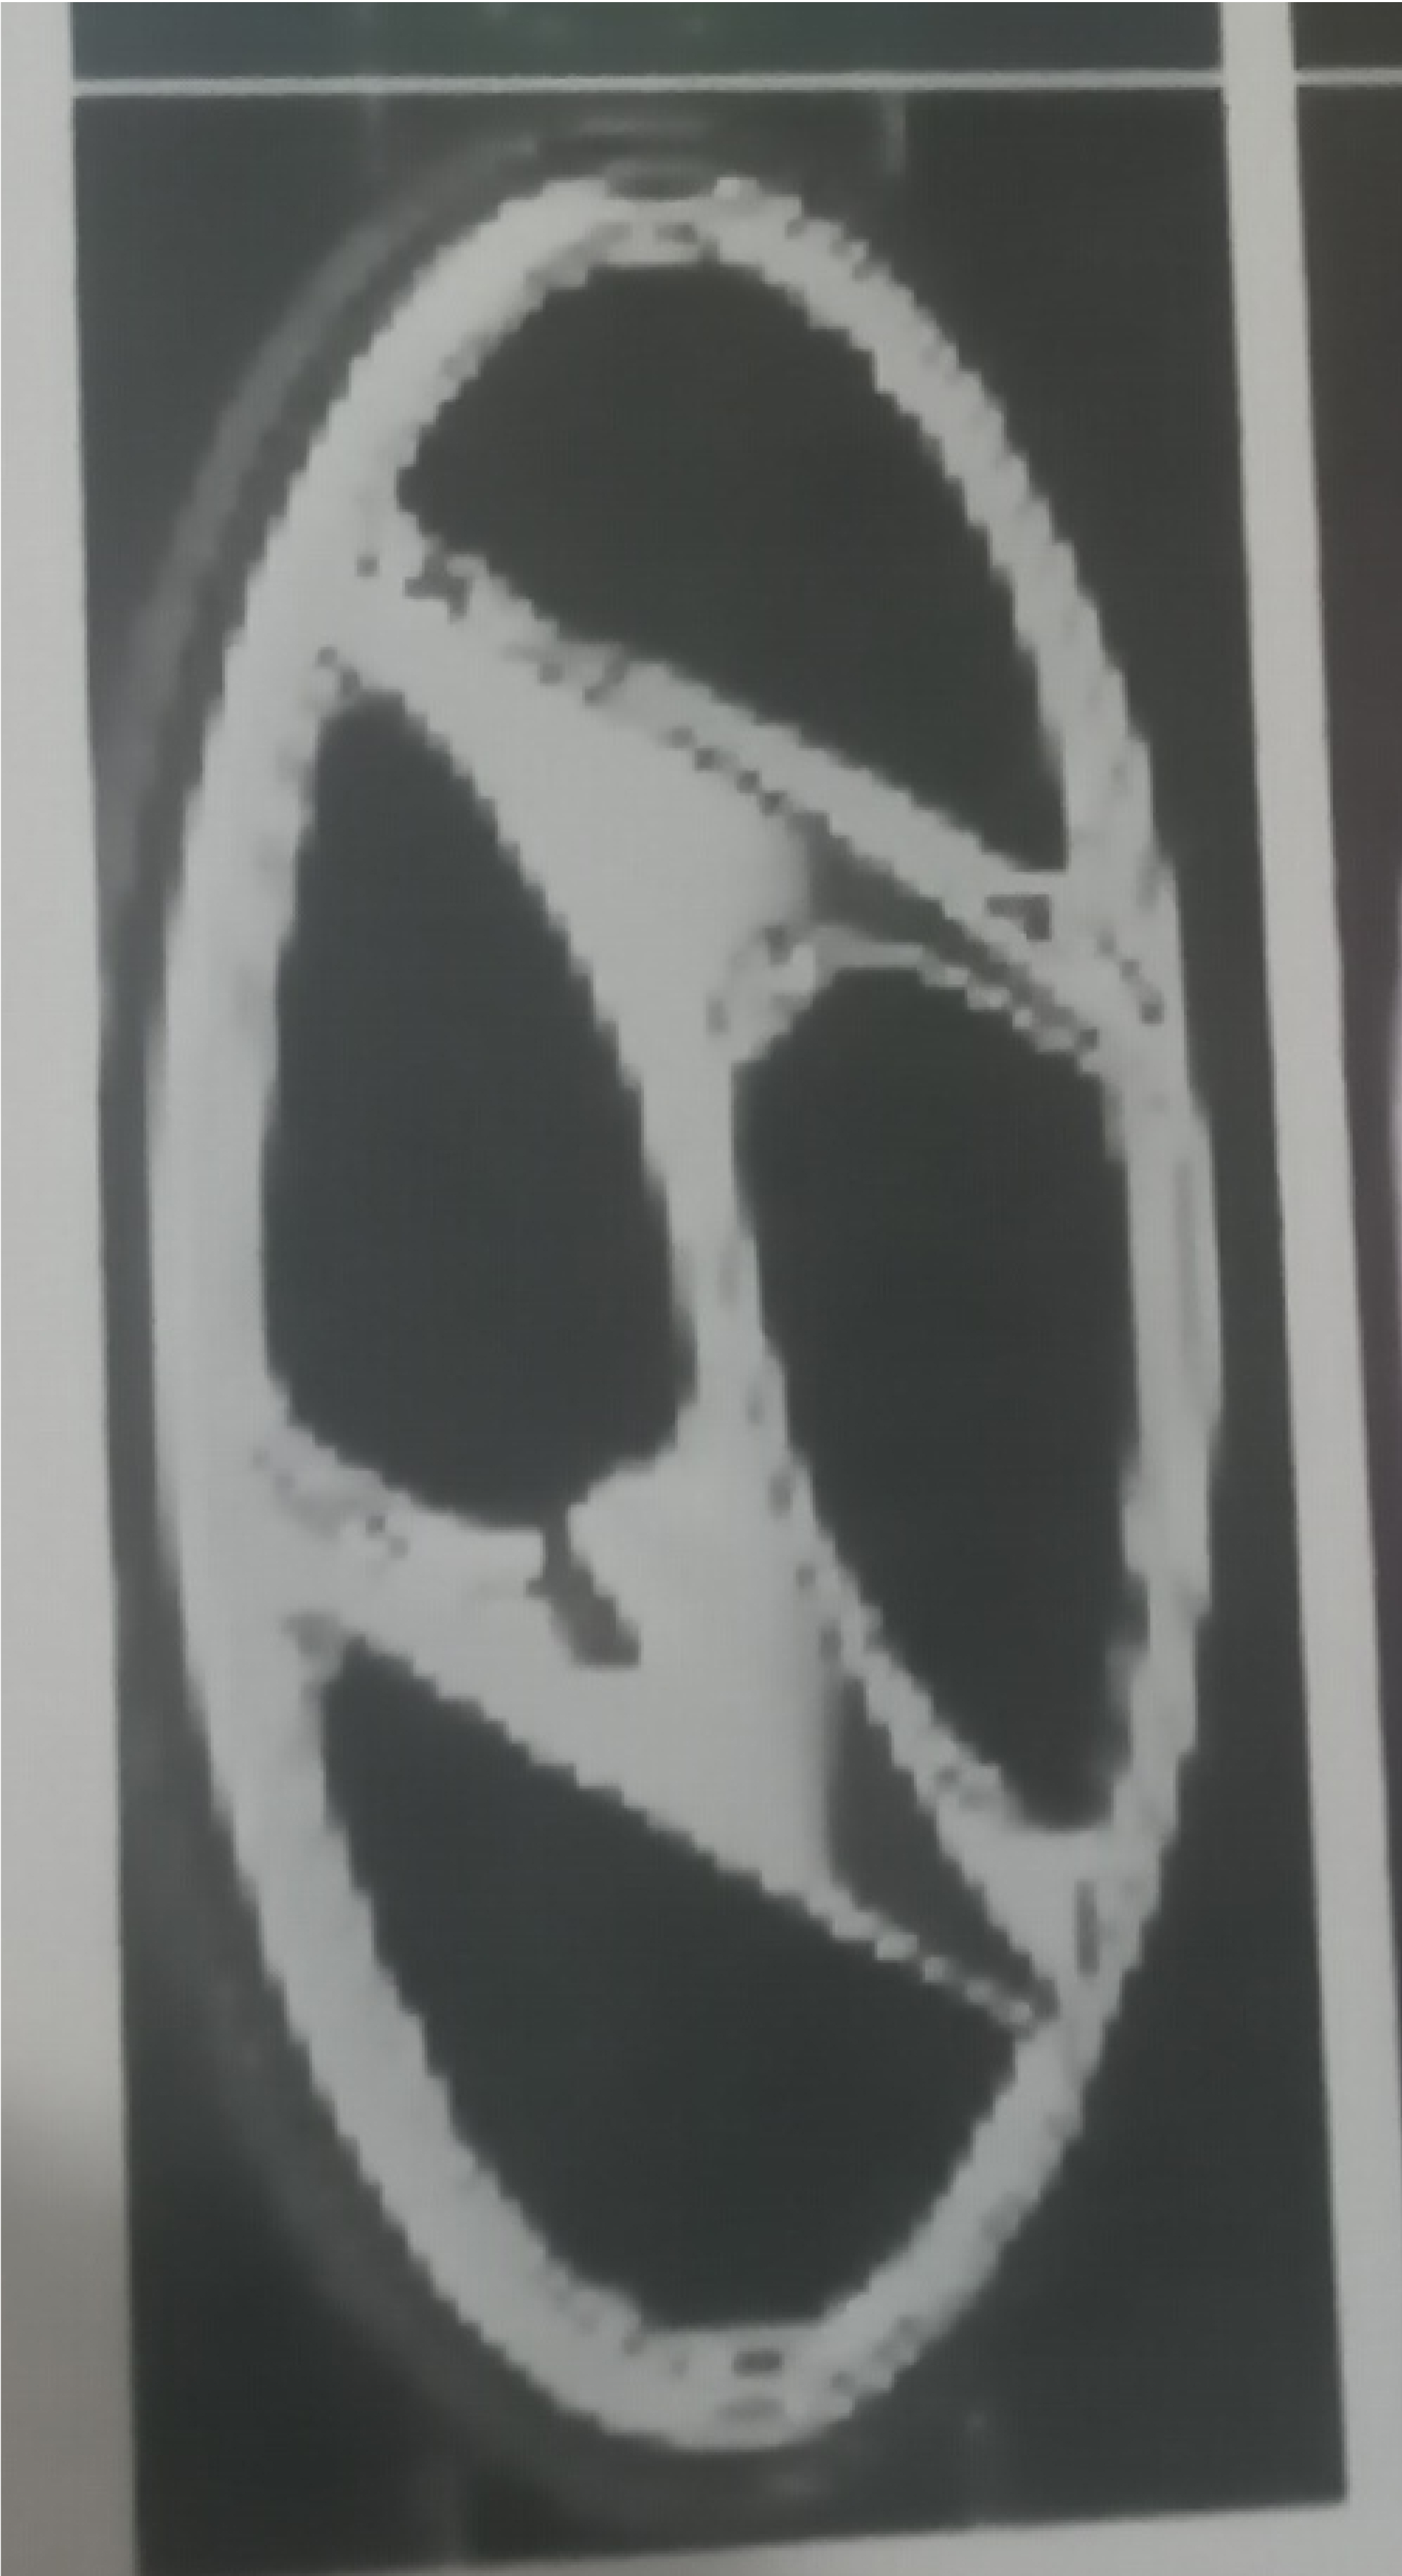Hyundai: (9, 85, 1355, 2535)
